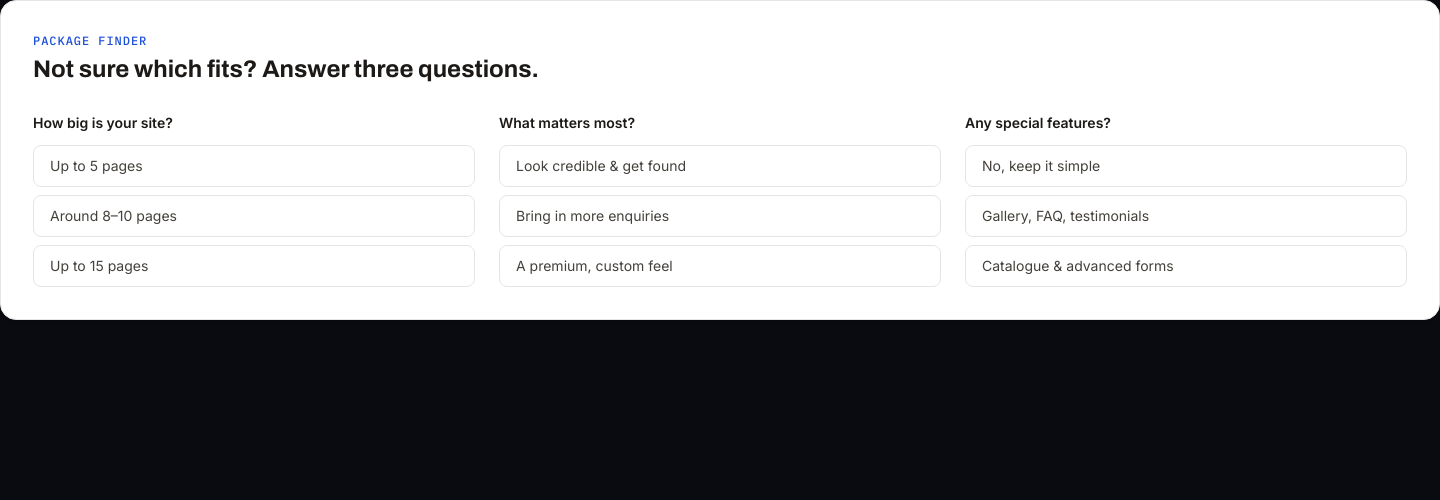
PackageFinder › shows the recommended package with its real price and reports it
This screenshot has width=1440, height=500.
Click the button "Up to 5 pages".
click(96, 166)  # box [33,145,475,187]
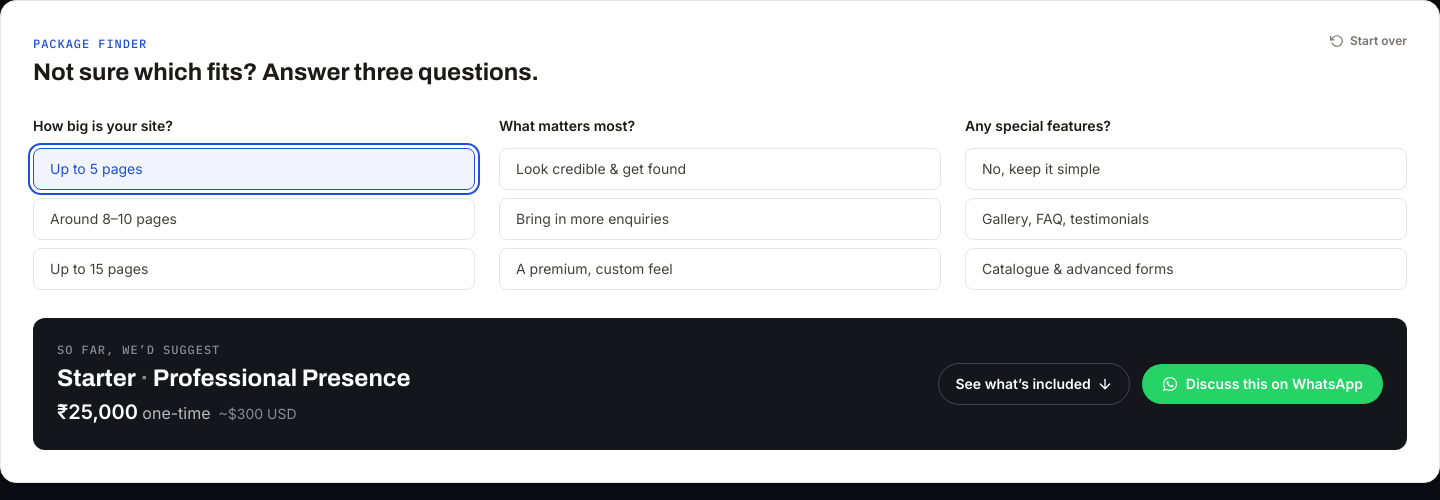
Result: the text "₹25,000" is shown at [57,400,138,424]
Click the button "Bring in more enquiries".
click(593, 218)  # box [499,198,941,240]
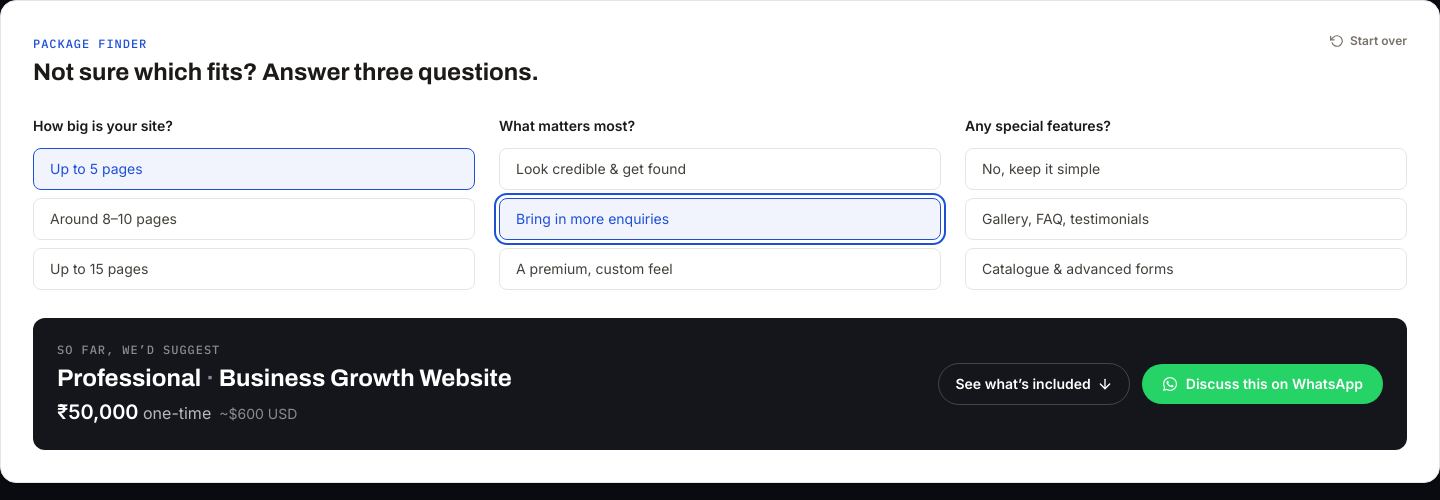
Result: the text "₹50,000" is shown at [57,400,138,424]
